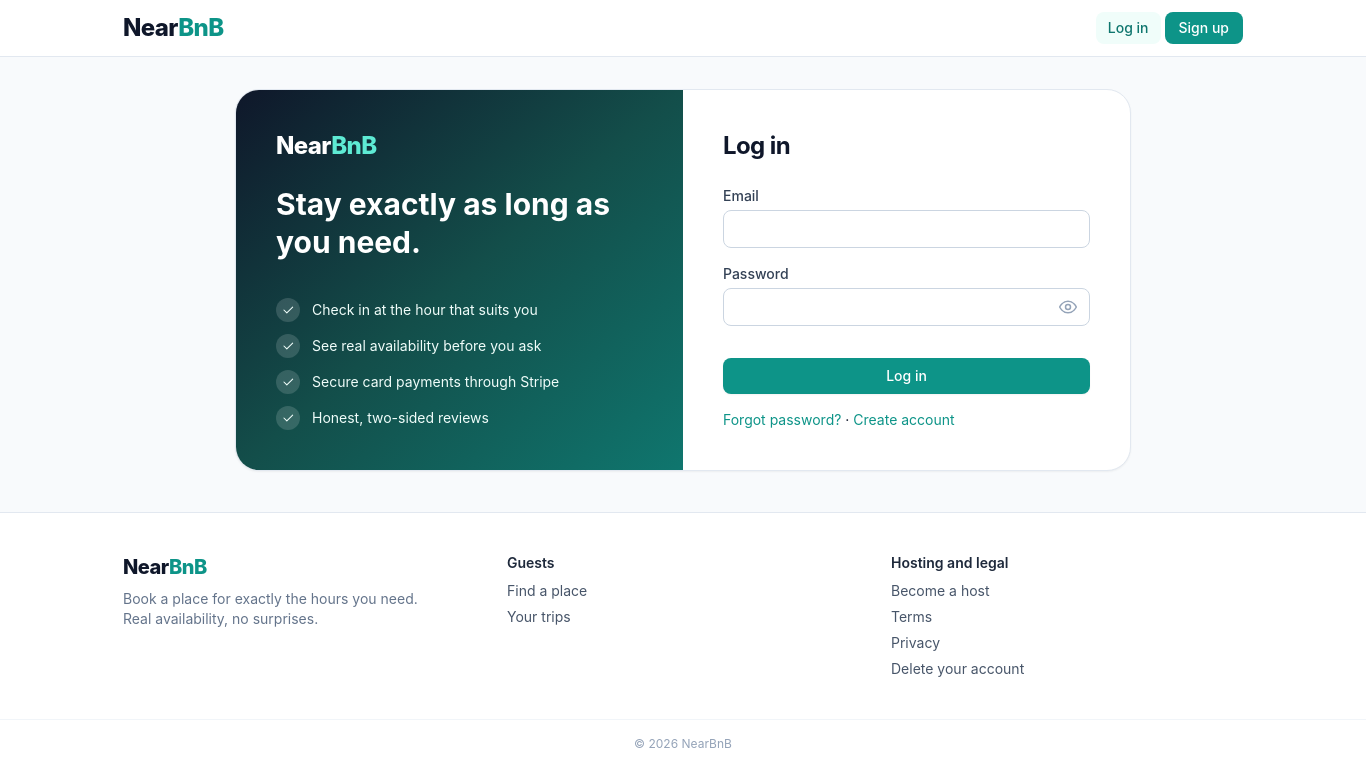
it: login and logout update the screen without a page refresh › switches to a different user after logout with no leftovers from the first
In the field labelled "Email": {"x": 906, "y": 229} top-left (723, 210), bottom-right (1090, 248), type "alice@example.com"
In the password field labelled "Password": {"x": 906, "y": 307} top-left (723, 288), bottom-right (1090, 326), type "whatever-password"
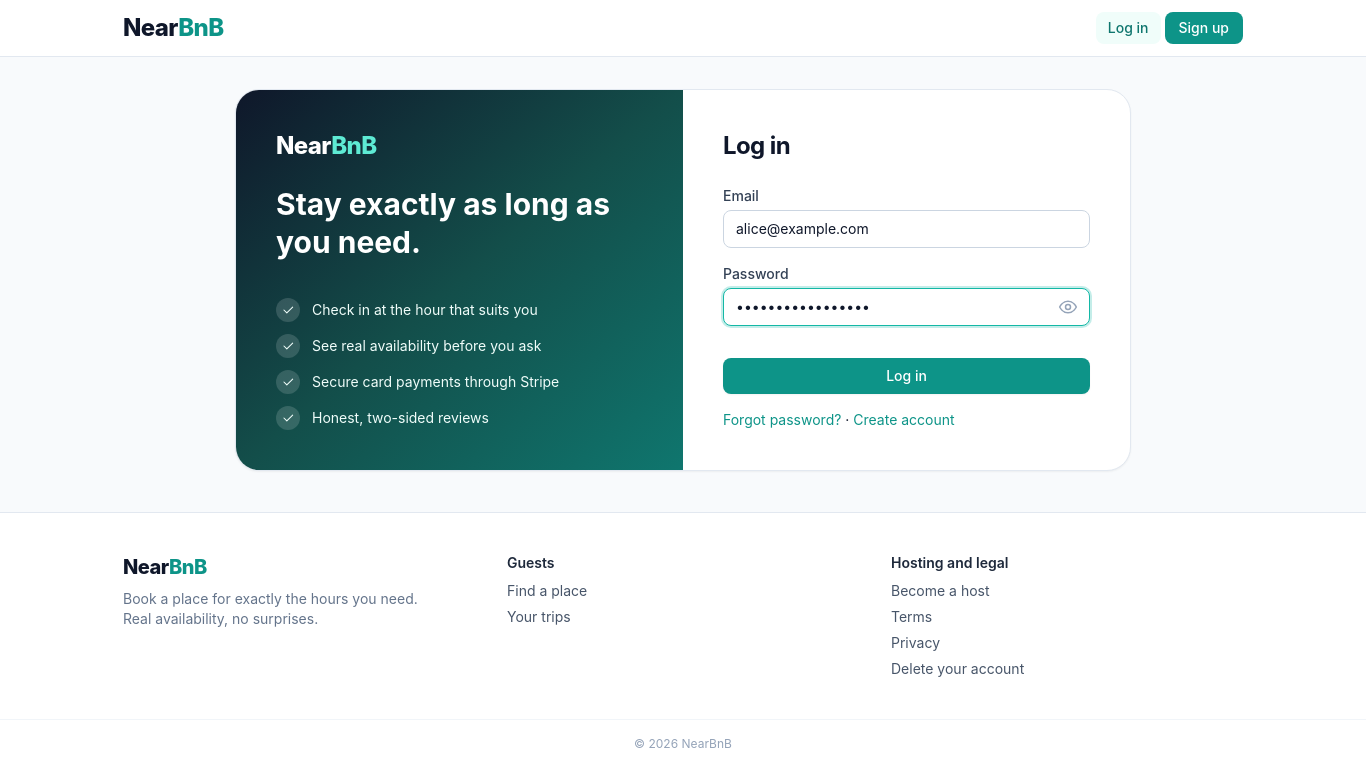
Click the button "Log in": {"x": 906, "y": 376} top-left (723, 358), bottom-right (1090, 394)
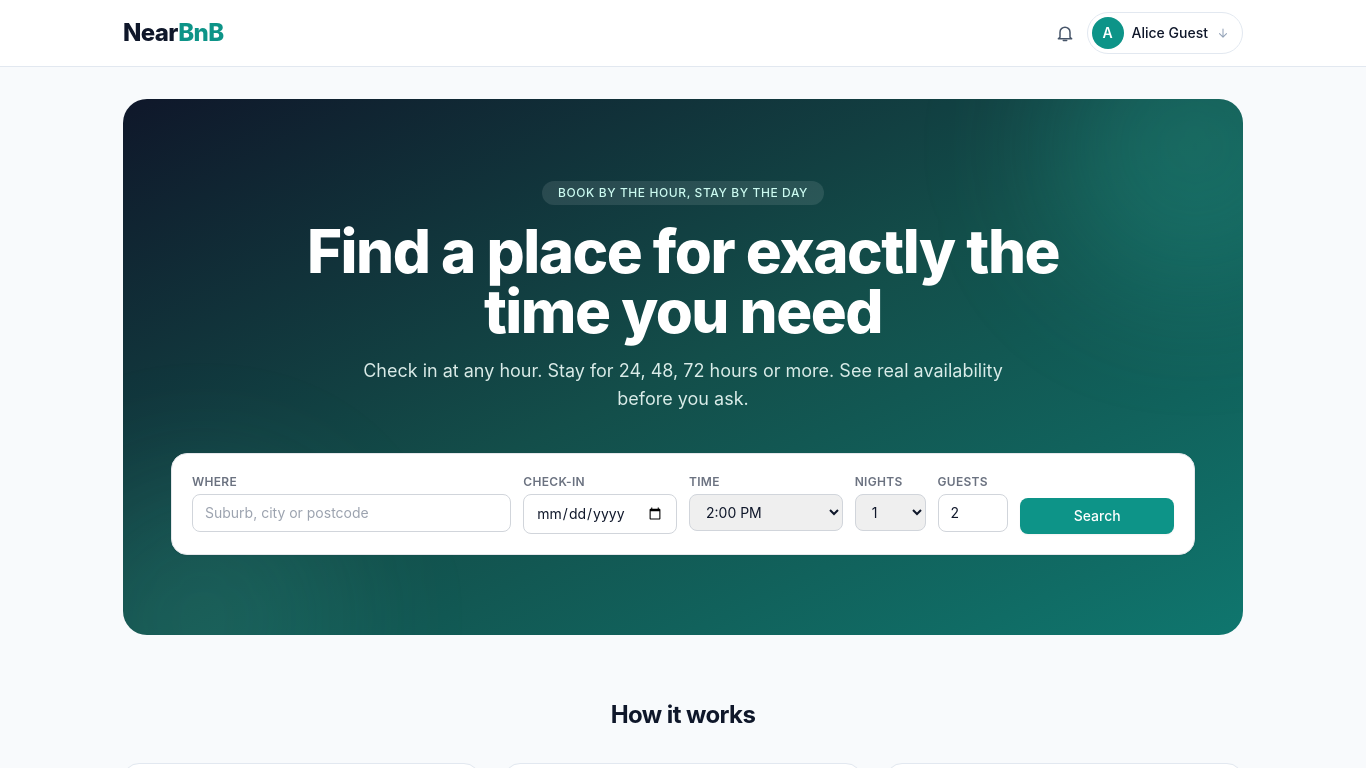
Click the button with aria-label "Account menu": {"x": 1165, "y": 33} top-left (1087, 12), bottom-right (1243, 54)
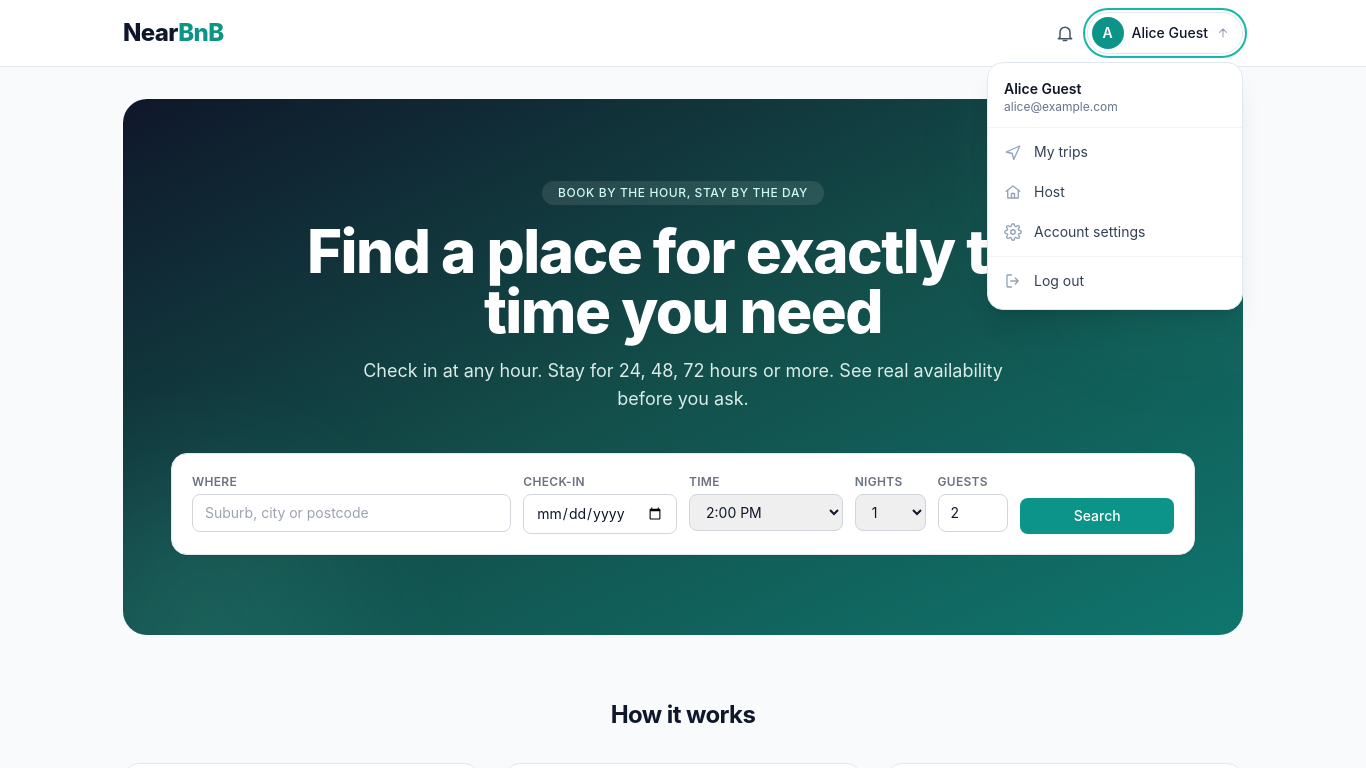
Click the menu item "Log out": {"x": 1115, "y": 281} top-left (988, 261), bottom-right (1242, 301)
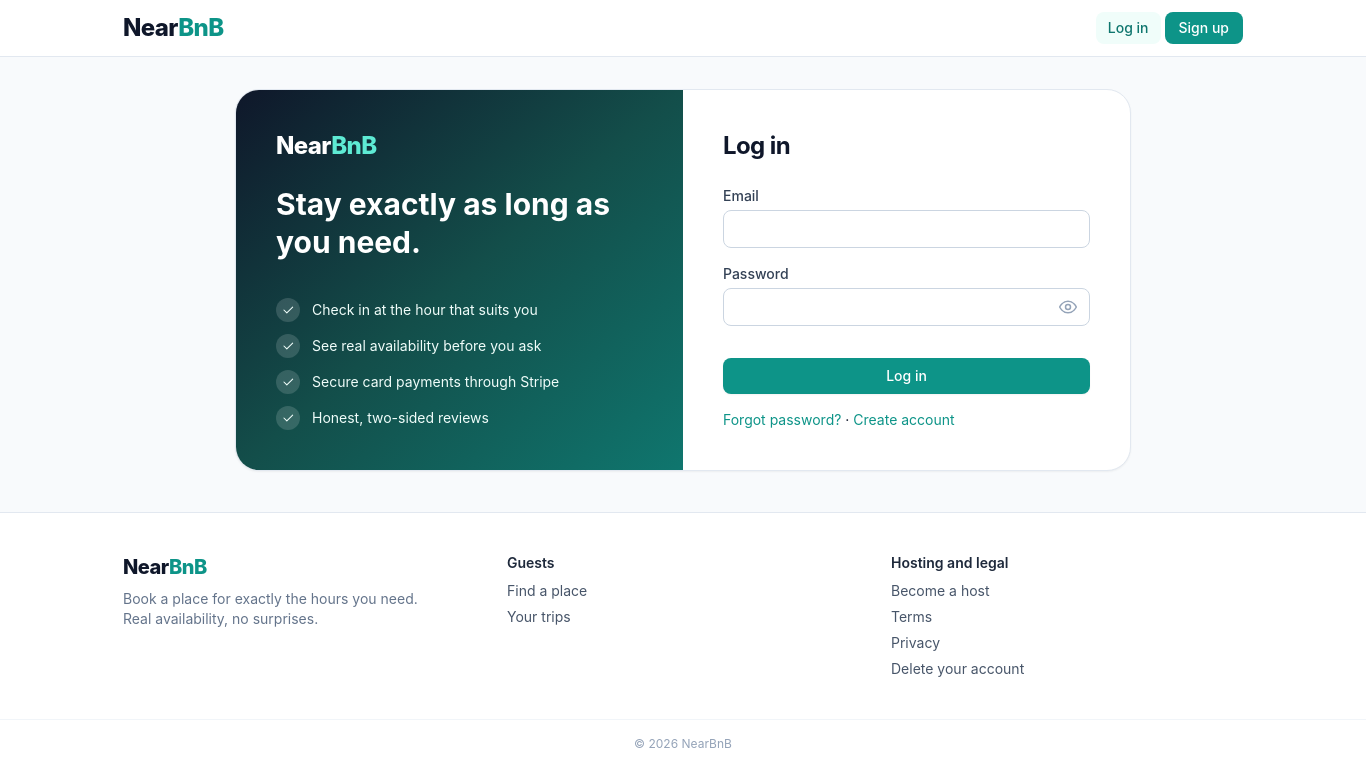
Check: the link "Log in" is shown, box top-left (1096, 12), bottom-right (1160, 44)
In the field labelled "Email": {"x": 906, "y": 229} top-left (723, 210), bottom-right (1090, 248), type "bob@example.com"
In the password field labelled "Password": {"x": 906, "y": 307} top-left (723, 288), bottom-right (1090, 326), type "whatever-password"
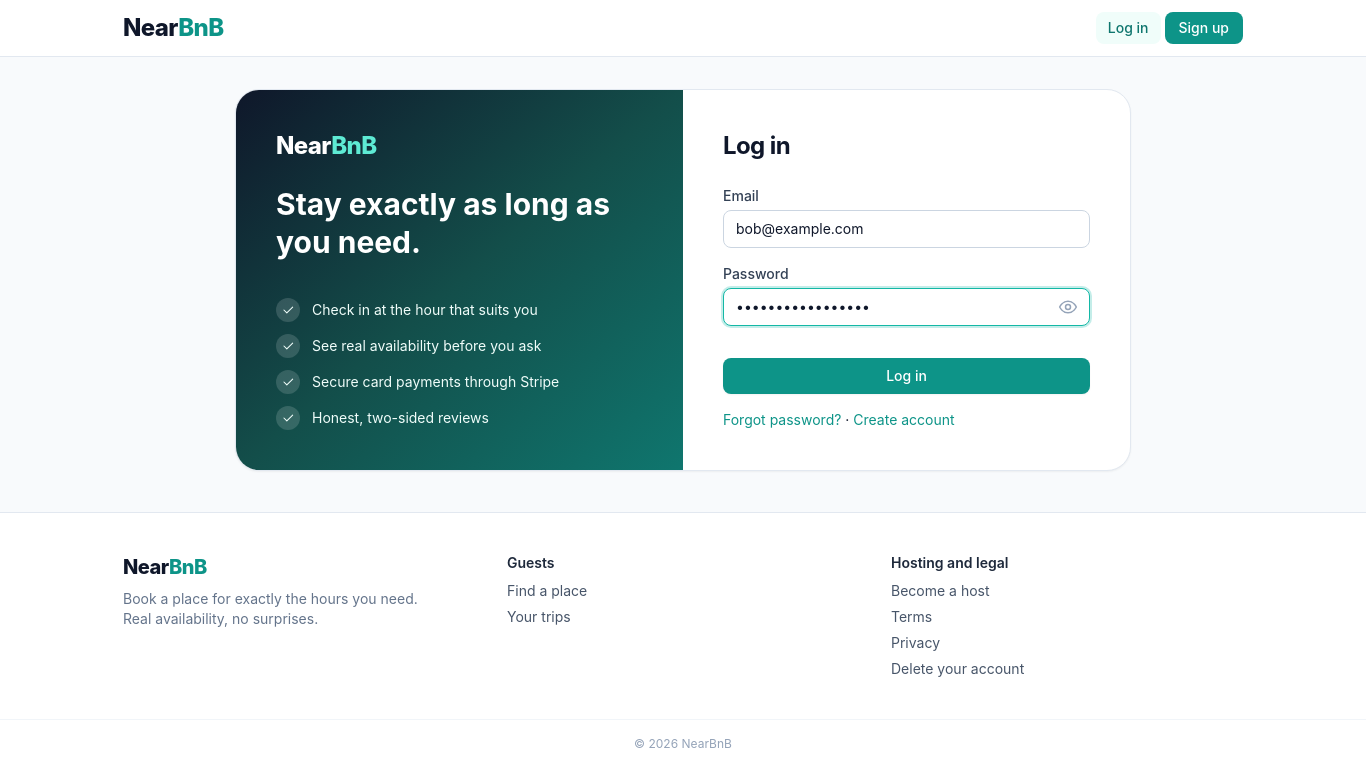
Click the button "Log in": {"x": 906, "y": 376} top-left (723, 358), bottom-right (1090, 394)
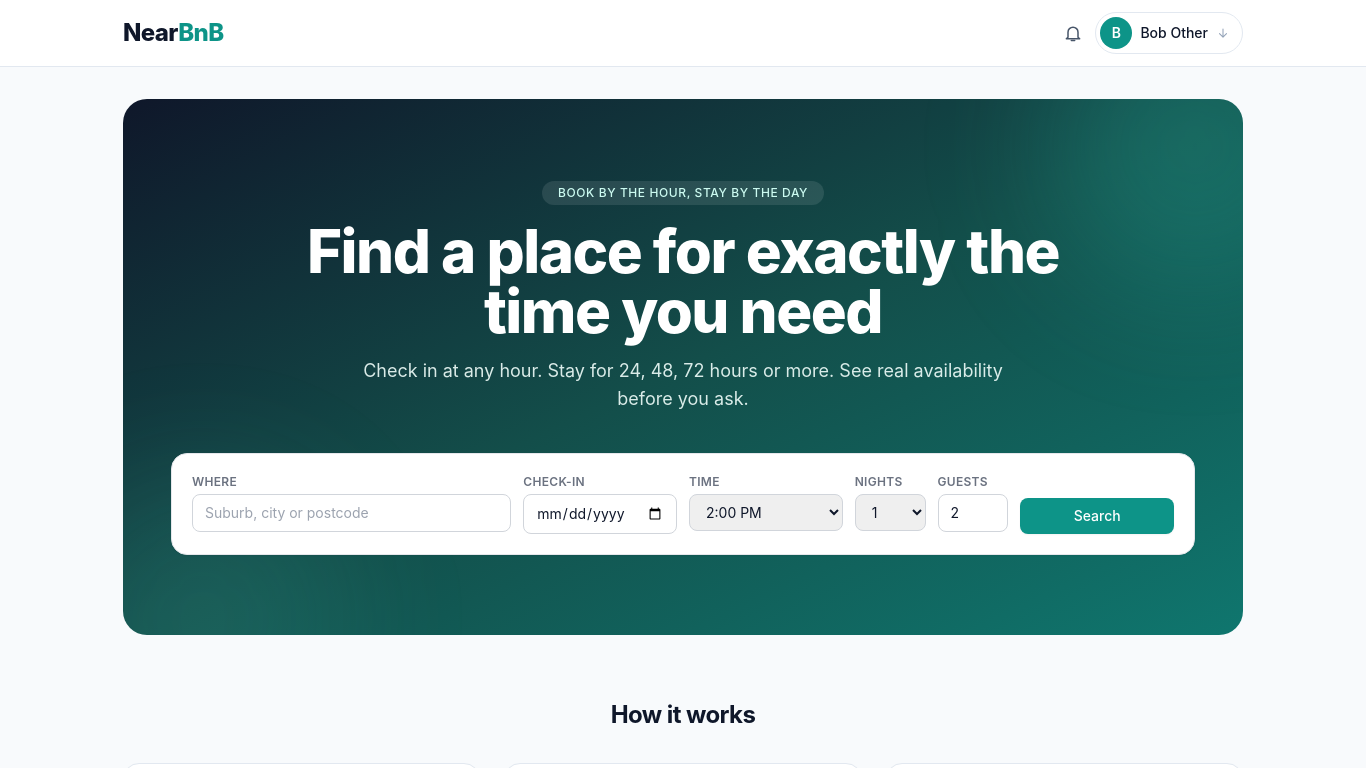
Check: the button "Alice Guest" is not shown
Check: the text "Bob Other" is shown, box top-left (1140, 23), bottom-right (1208, 43)
